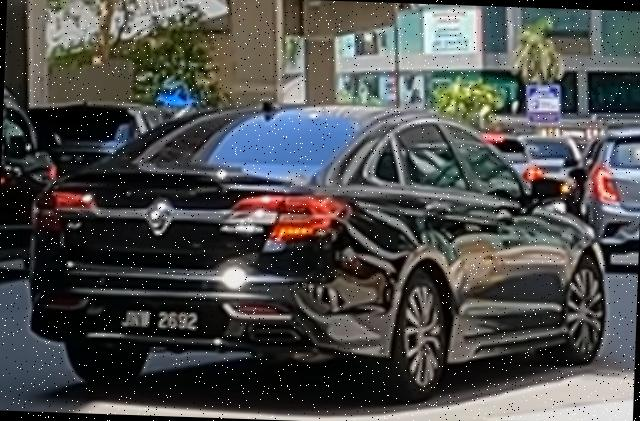License_Plate: (115, 308, 203, 336)
car: (23, 92, 615, 409)
